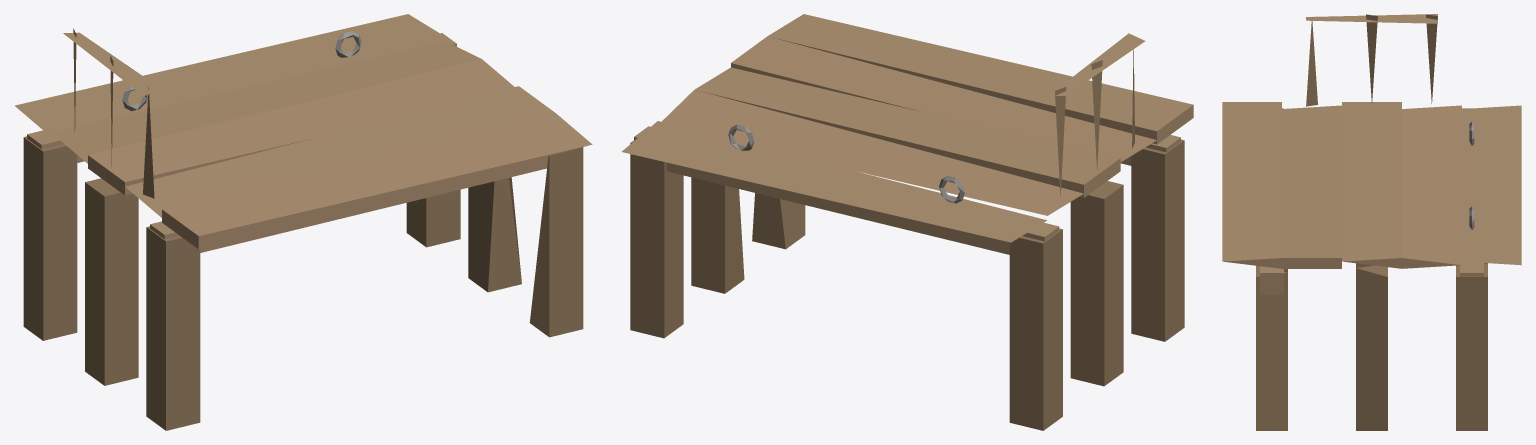
The model's file is 40-Infraestructura_muelle_madera.glb.
The picture shows the model from 3 angles, left to right: view 1: azimuth 30°, elevation 25°; view 2: azimuth 150°, elevation 25°; view 3: azimuth 270°, elevation 25°; orthographic projection. The views are drawn at different scales.
Visible parts, largest first — view 1: SM_Muelle_M_Madera_Muelle, SM_Muelle_M_Madera_Muelle_Osc, SM_Muelle_M_Hierro_Muelle; view 2: SM_Muelle_M_Madera_Muelle, SM_Muelle_M_Madera_Muelle_Osc, SM_Muelle_M_Hierro_Muelle; view 3: SM_Muelle_M_Madera_Muelle, SM_Muelle_M_Madera_Muelle_Osc.
Boxes of the visible parts, <box> form: SM_Muelle_M_Madera_Muelle: <box>15,14,592,252</box>; SM_Muelle_M_Madera_Muelle_Osc: <box>23,28,583,430</box>; SM_Muelle_M_Hierro_Muelle: <box>122,31,361,111</box>; SM_Muelle_M_Madera_Muelle: <box>622,14,1193,254</box>; SM_Muelle_M_Madera_Muelle_Osc: <box>630,49,1184,430</box>; SM_Muelle_M_Hierro_Muelle: <box>728,124,964,203</box>; SM_Muelle_M_Madera_Muelle: <box>1222,14,1521,294</box>; SM_Muelle_M_Madera_Muelle_Osc: <box>1256,14,1487,430</box>.
Size of the model in its own units: 1.96 by 1.42 by 1.5.
